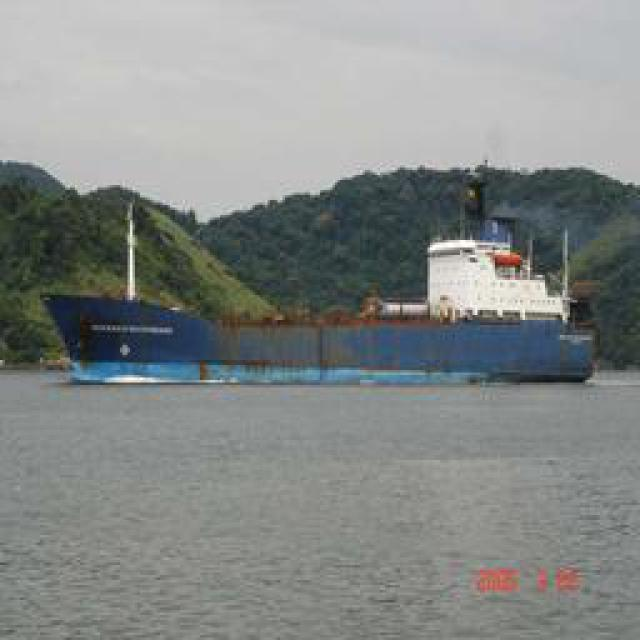Ship: (40, 209, 587, 396)
